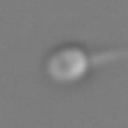normal: (88, 42, 128, 71)
